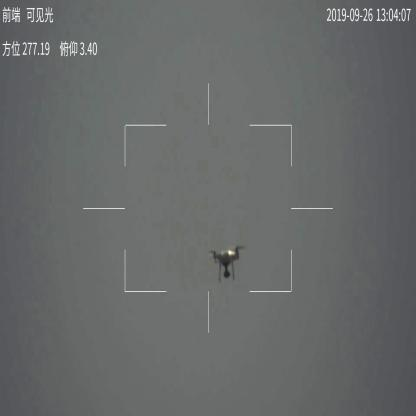uav: (201, 242, 249, 283)
